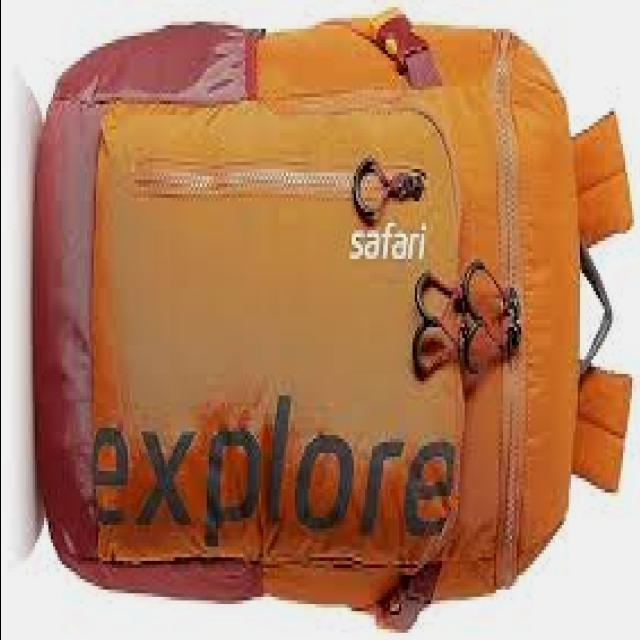backpack: (35, 8, 637, 634)
